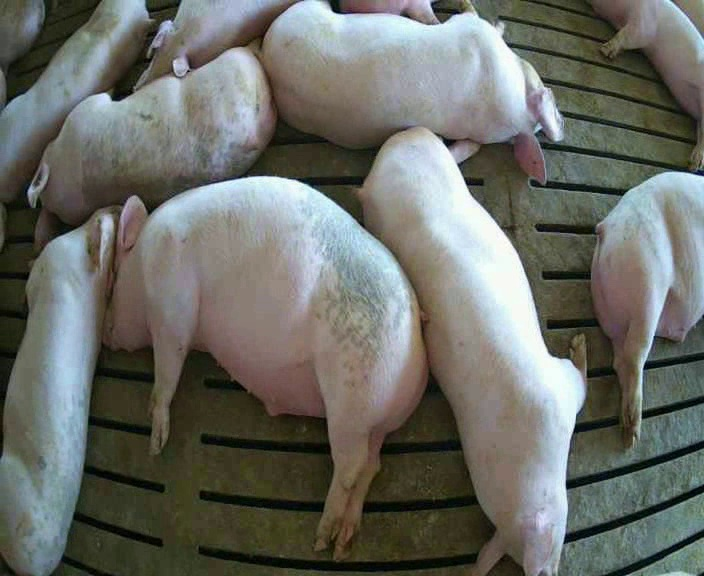pig: (105, 177, 426, 557), (356, 128, 585, 573), (254, 1, 563, 182), (28, 38, 275, 247), (0, 207, 118, 573), (591, 172, 703, 447), (0, 2, 154, 201), (592, 2, 703, 170), (135, 1, 292, 89)
